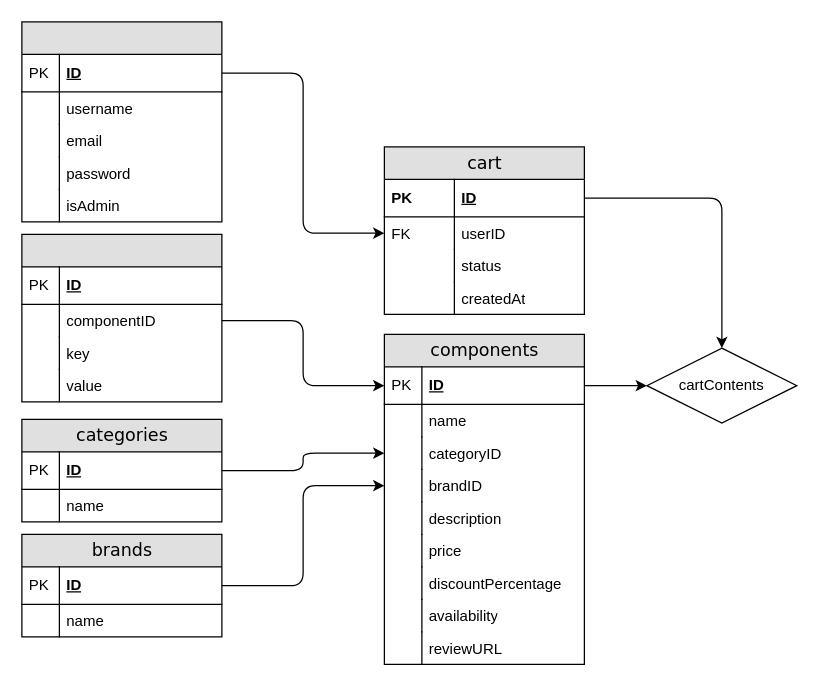
Image size: 819x690. Some labels were removed from this diagram. Here are the shapes that lost their labels. From the top down, the box of each, then its label:
(21, 21, 222, 222): users
(21, 233, 222, 402): componentsInfo
